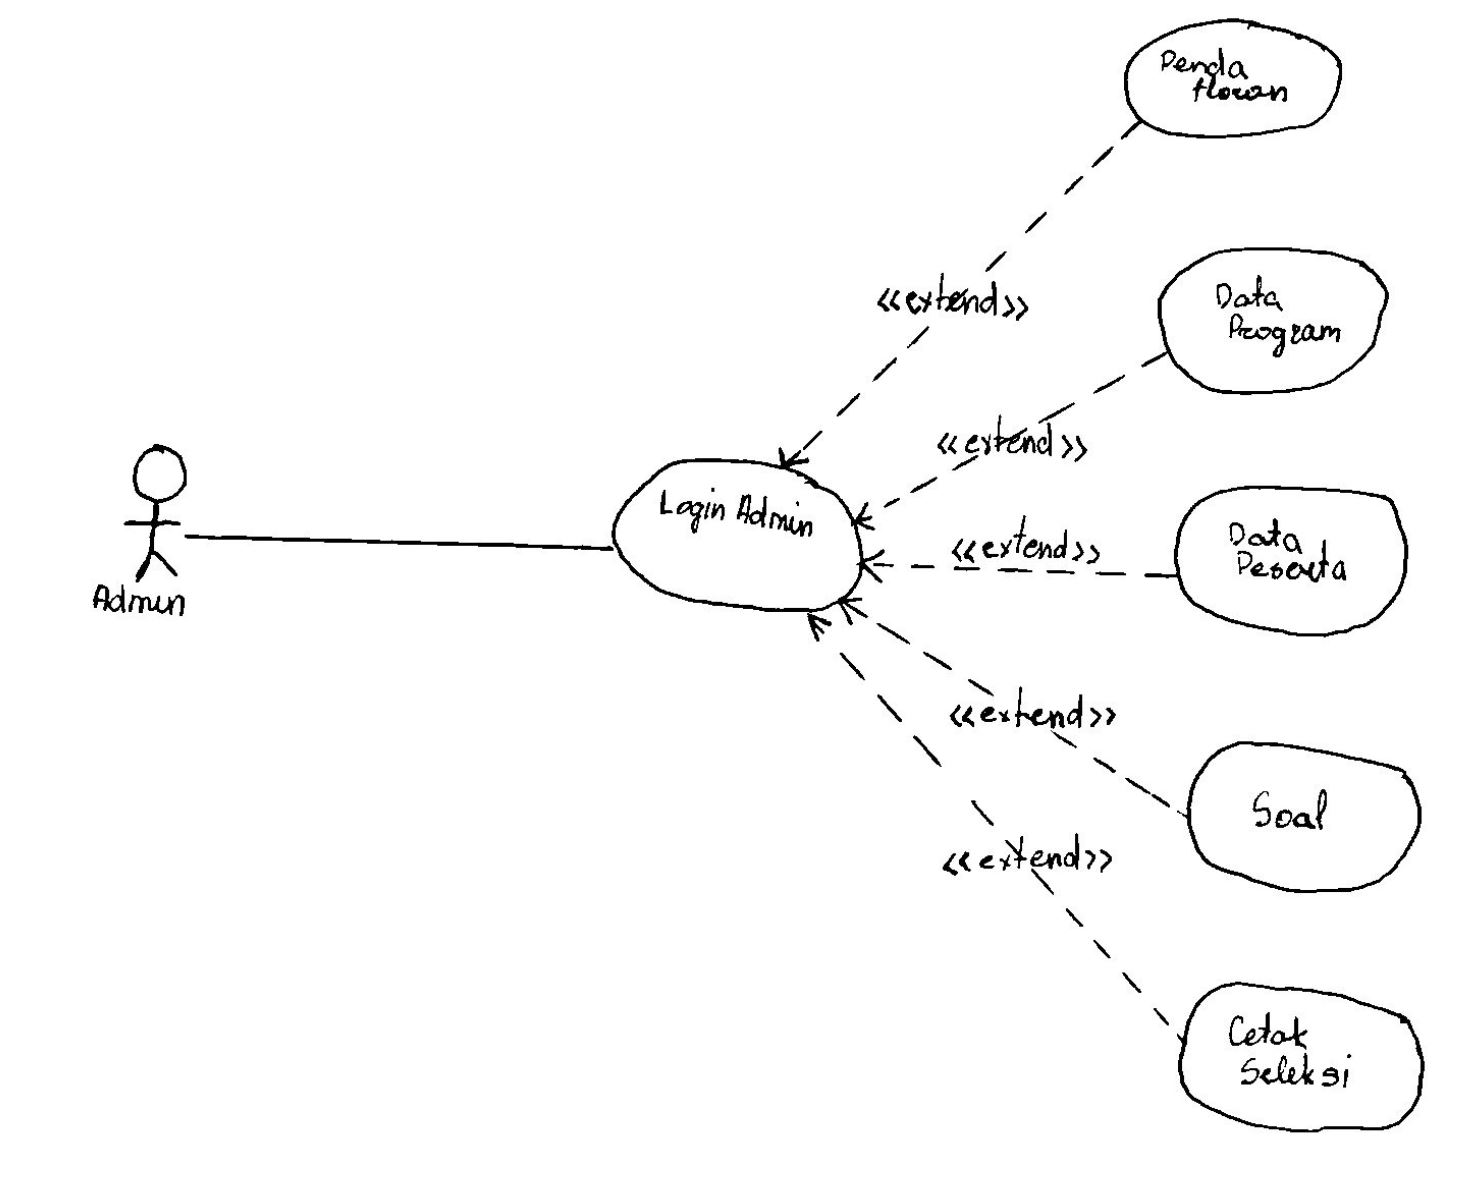actor: (116, 439, 186, 591)
association: (807, 610, 1184, 1038), (778, 121, 1140, 470), (838, 595, 1184, 823), (852, 349, 1168, 528), (183, 505, 614, 570), (866, 544, 1172, 589)
text: (1228, 1010, 1355, 1110), (1208, 277, 1349, 364), (651, 481, 820, 551), (1159, 43, 1303, 111), (1222, 522, 1357, 593), (936, 412, 1099, 467), (876, 270, 1037, 324), (936, 831, 1114, 879), (938, 687, 1122, 732), (948, 517, 1107, 568), (1241, 784, 1349, 858), (88, 578, 195, 627)
use_case: (606, 455, 866, 615), (1187, 737, 1423, 899), (1178, 981, 1423, 1133), (1172, 484, 1409, 638), (1159, 244, 1390, 396), (1122, 16, 1344, 140)
